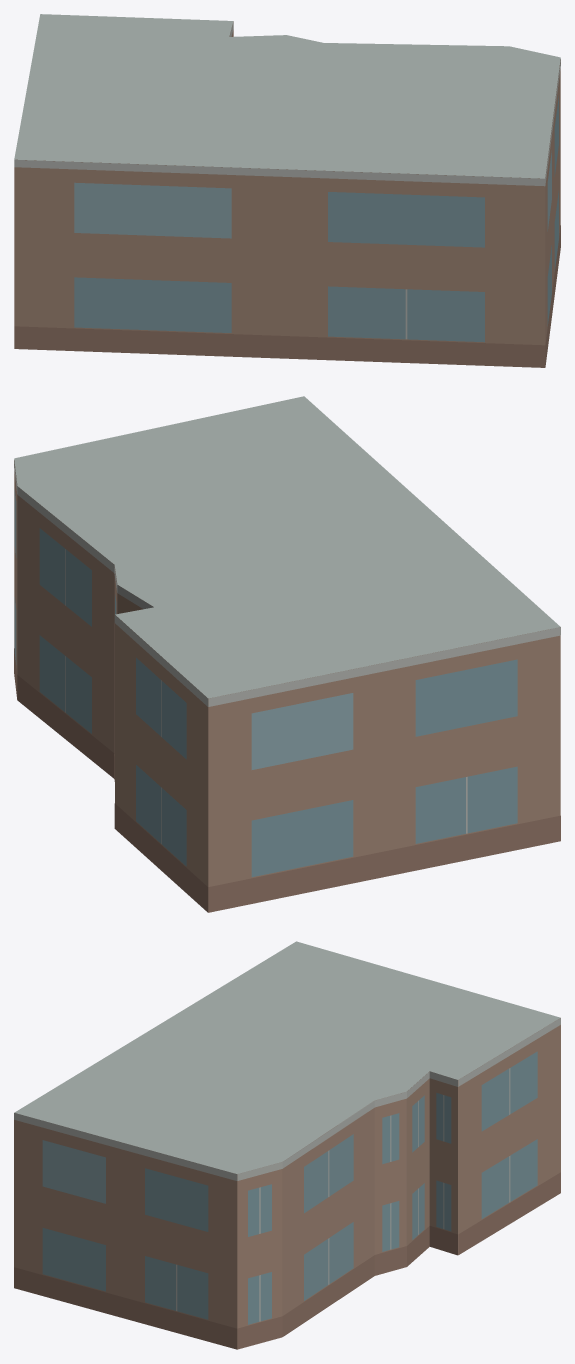
Rendered from survey-upis-32600598.glb.
3 views of the same model, one above another, from view 1: azimuth 30°, elevation 25°; view 2: azimuth 150°, elevation 25°; view 3: azimuth 270°, elevation 25° (orthographic). The views are drawn at different scales.
Parts seen in each view (by area): view 1: survey-upis-32600598.tmp; view 2: survey-upis-32600598.tmp; view 3: survey-upis-32600598.tmp.
Boxes of the visible parts, x1,y1,x2,y2 form: survey-upis-32600598.tmp: (14,14,560,367); survey-upis-32600598.tmp: (14,396,560,912); survey-upis-32600598.tmp: (14,941,560,1349).
Size of the model in its own units: 17.37 by 6.1 by 17.24.
